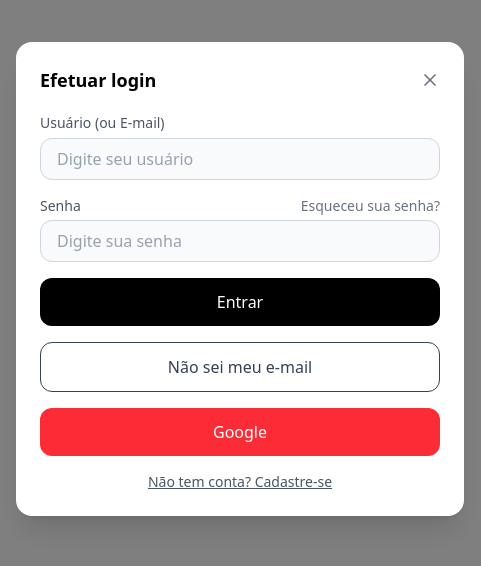
Test: LoginModal Component › deve exibir mensagem de erro se a API recusar o login
Type "errado" into the field with placeholder "Digite seu usuário" at (240, 159), box left=40, top=138, right=440, bottom=180
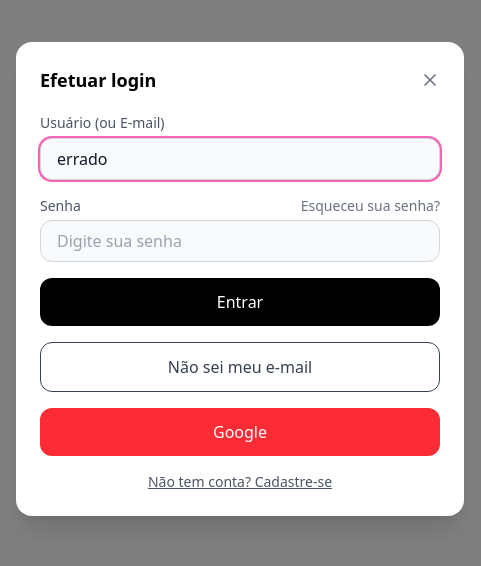
Type "errado" into the password field with placeholder "Digite sua senha" at (240, 241), box left=40, top=220, right=440, bottom=262
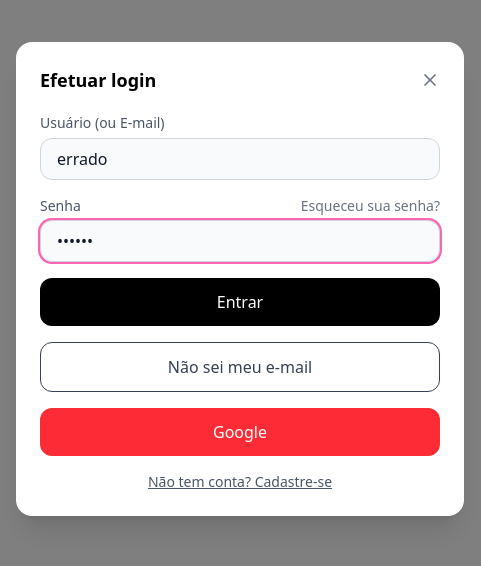
Click the button "Entrar" at (240, 302), box left=40, top=278, right=440, bottom=326
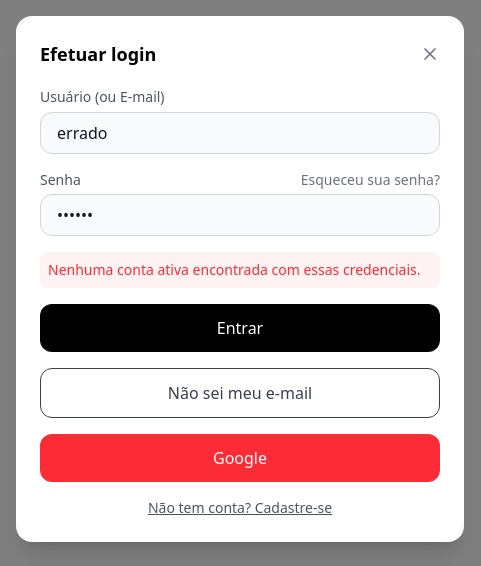
Now the text "Nenhuma conta ativa encontrada com essas credenciais." is shown, box left=40, top=252, right=440, bottom=288
